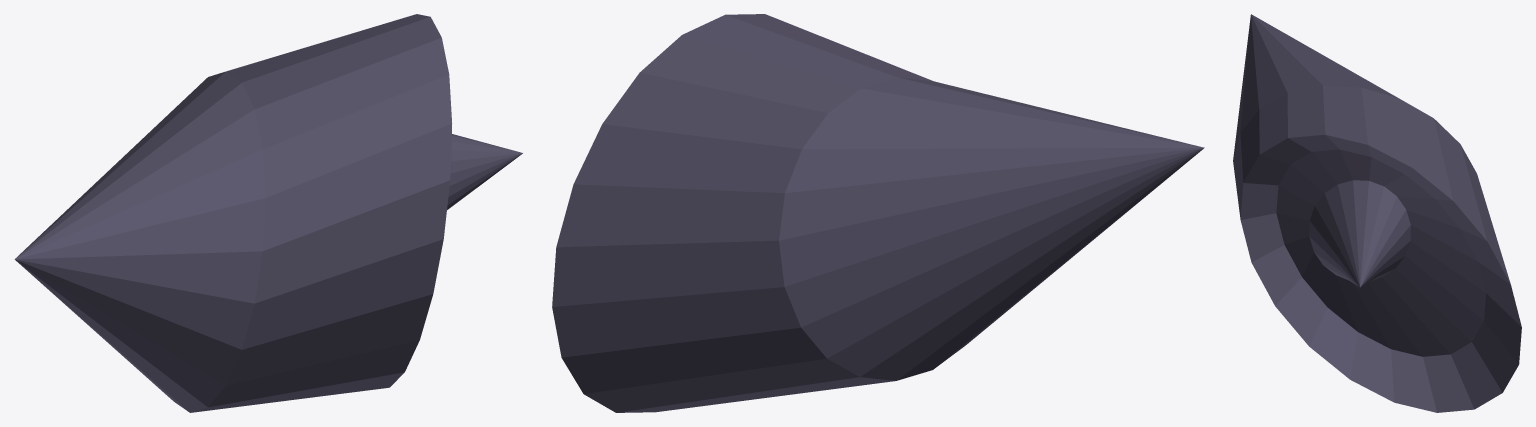
The model's file is MageLeftHand.fbx.
3 renders of one model, left to right at view 1: azimuth 30°, elevation 25°; view 2: azimuth 150°, elevation 25°; view 3: azimuth 270°, elevation 25°, orthographic. The views are drawn at different scales.
Visible parts, largest first — view 1: polySurface291; view 2: polySurface291; view 3: polySurface291.
Boxes of the visible parts, x1,y1,x2,y2 form: polySurface291: (14,14,522,412); polySurface291: (552,14,1204,412); polySurface291: (1233,14,1521,412).
Size of the model in its own units: 109 by 68.25 by 64.2.
